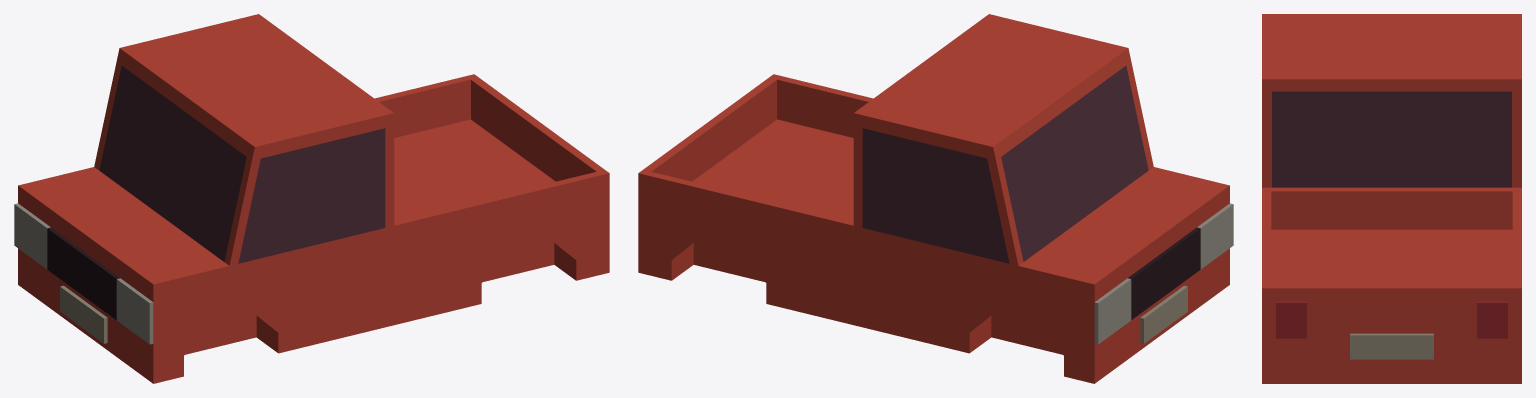
Rendered from Pickup_Red.fbx.
3 views of the same model, side by side, from view 1: azimuth 30°, elevation 25°; view 2: azimuth 150°, elevation 25°; view 3: azimuth 270°, elevation 25° (orthographic). The views are drawn at different scales.
Parts seen in each view (by area): view 1: Pickup_Red, Pickup_Lights; view 2: Pickup_Red, Pickup_Lights; view 3: Pickup_Red, Pickup_Lights.
Part boxes in pixels (x1,y1,x2,y2): Pickup_Red: (18,14,609,383); Pickup_Lights: (14,203,153,344); Pickup_Red: (638,14,1229,383); Pickup_Lights: (1094,203,1233,344); Pickup_Red: (1262,14,1521,383); Pickup_Lights: (1276,301,1507,338).
Size of the model in its own units: 3.66 by 1.6 by 1.85.
